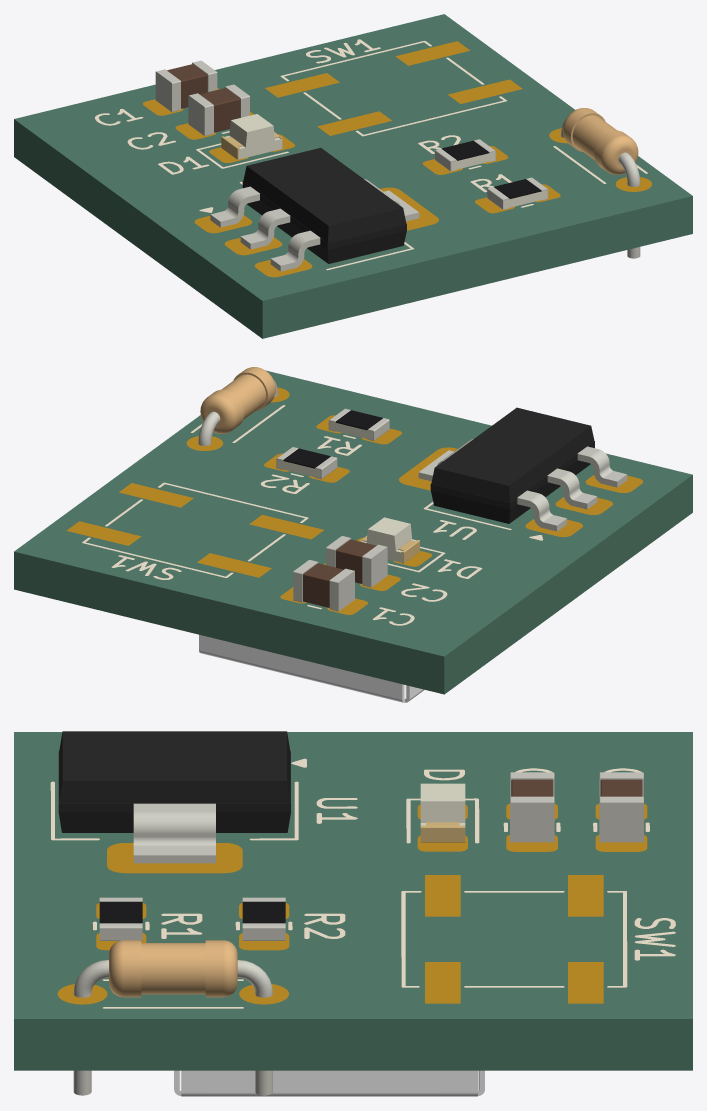
File: pcb-v0.1-pcb.gltf
3 renders of one model, top to bottom at view 1: azimuth 30°, elevation 25°; view 2: azimuth 150°, elevation 25°; view 3: azimuth 270°, elevation 25°, orthographic. The views are drawn at different scales.
Visible parts, largest first — view 1: _autosave-wifi-thermometer_PCB, SOT_223, topTracks_a202, R_Axial_DIN0204_L36mm_D16mm_P508mm_Horizontal, topSilks_a5ad, C_0805_2012Metric002, C_0805_2012Metric, LED_0805_2012Metric, R_0805_2012Metric002, R_0805_2012Metric; view 2: _autosave-wifi-thermometer_PCB, SOT_223, topTracks_a202, ESP32-C3-MINI-1U_20211085, topSilks_a5ad, R_Axial_DIN0204_L36mm_D16mm_P508mm_Horizontal, C_0805_2012Metric, C_0805_2012Metric002, LED_0805_2012Metric, R_0805_2012Metric, R_0805_2012Metric002; view 3: _autosave-wifi-thermometer_PCB, SOT_223, topTracks_a202, R_Axial_DIN0204_L36mm_D16mm_P508mm_Horizontal, ESP32-C3-MINI-1U_20211085, topSilks_a5ad, C_0805_2012Metric, C_0805_2012Metric002, LED_0805_2012Metric, R_0805_2012Metric, R_0805_2012Metric002.
Part boxes in pixels (x1,y1,x2,y2): _autosave-wifi-thermometer_PCB: [14, 14, 692, 338]; SOT_223: [210, 147, 419, 271]; topTracks_a202: [143, 41, 651, 277]; R_Axial_DIN0204_L36mm_D16mm_P508mm_Horizontal: [561, 108, 640, 258]; topSilks_a5ad: [95, 39, 647, 270]; C_0805_2012Metric002: [188, 84, 249, 135]; C_0805_2012Metric: [155, 60, 217, 112]; LED_0805_2012Metric: [221, 114, 282, 159]; R_0805_2012Metric002: [487, 177, 548, 209]; R_0805_2012Metric: [435, 139, 495, 171]; _autosave-wifi-thermometer_PCB: [14, 370, 692, 694]; SOT_223: [418, 407, 627, 531]; topTracks_a202: [66, 387, 642, 614]; ESP32-C3-MINI-1U_20211085: [199, 634, 424, 702]; topSilks_a5ad: [82, 405, 542, 625]; R_Axial_DIN0204_L36mm_D16mm_P508mm_Horizontal: [198, 367, 277, 445]; C_0805_2012Metric: [293, 560, 354, 611]; C_0805_2012Metric002: [326, 536, 387, 587]; LED_0805_2012Metric: [359, 517, 419, 563]; R_0805_2012Metric: [276, 447, 337, 479]; R_0805_2012Metric002: [328, 408, 389, 440]; _autosave-wifi-thermometer_PCB: [14, 732, 692, 1070]; SOT_223: [58, 731, 290, 863]; topTracks_a202: [57, 803, 647, 1004]; R_Axial_DIN0204_L36mm_D16mm_P508mm_Horizontal: [73, 940, 272, 1095]; ESP32-C3-MINI-1U_20211085: [174, 1070, 484, 1096]; topSilks_a5ad: [50, 758, 675, 1008]; C_0805_2012Metric: [599, 772, 643, 842]; C_0805_2012Metric002: [510, 772, 554, 842]; LED_0805_2012Metric: [420, 783, 465, 842]; R_0805_2012Metric: [242, 897, 285, 940]; R_0805_2012Metric002: [99, 897, 142, 940].
Size of the model in its own units: 0.019 by 0.0058 by 0.019.
